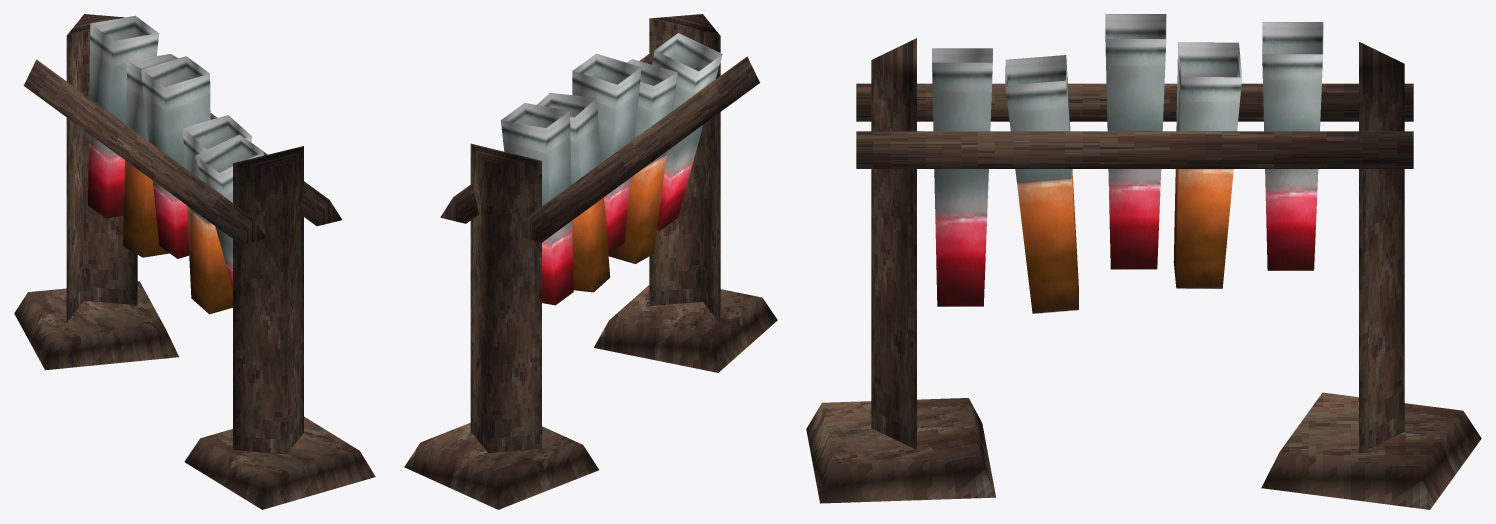
The model's file is smallvials.obj.
3 views of the same model, side by side, from view 1: azimuth 30°, elevation 25°; view 2: azimuth 150°, elevation 25°; view 3: azimuth 270°, elevation 25° (orthographic). The views are drawn at different scales.
Parts seen in each view (by area): view 1: 0, 2, 1; view 2: 0, 2, 1; view 3: 0, 2, 1.
Part boxes in pixels (x1,y1,x2,y2): 0: (14,14,375,509); 2: (88,15,263,288); 1: (123,54,251,314); 0: (404,14,777,509); 2: (500,33,722,305); 1: (537,59,677,292); 0: (806,38,1481,509); 2: (932,14,1323,306); 1: (1005,42,1242,313).
Bounding box in the file's own units: 0.333 × 0.7166 × 1.02.
Materials: 3 (3 with a texture image).
